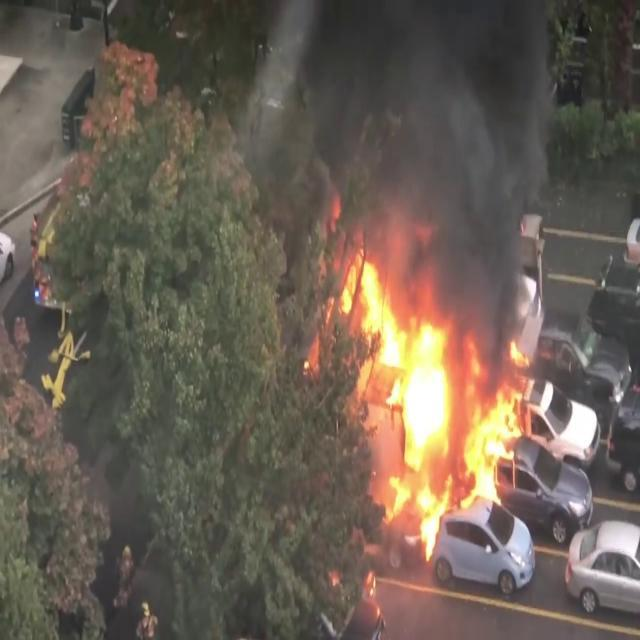Fire: (333, 251, 538, 548)
Smoke: (205, 0, 570, 304)
